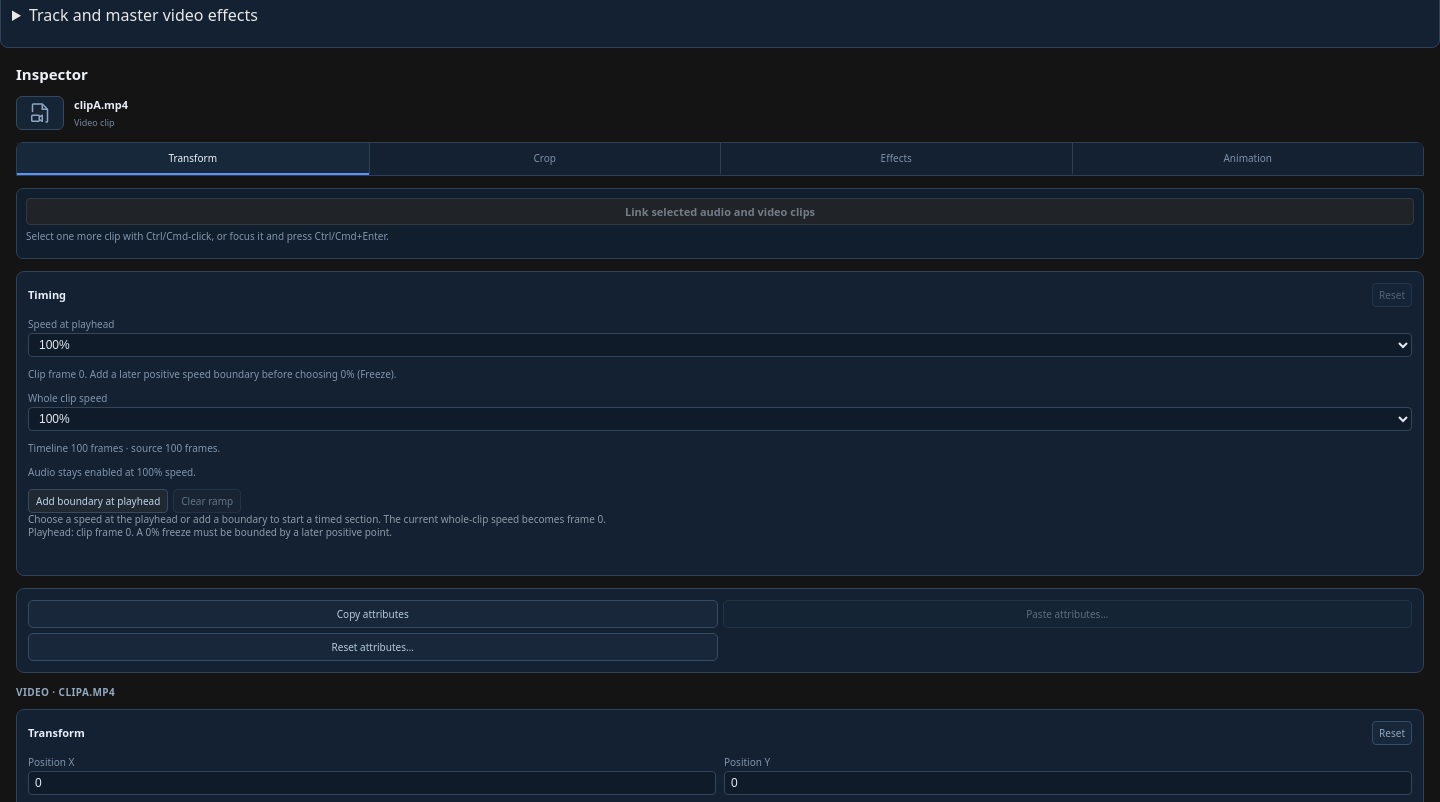
Test: Inspector › reports opaque unsupported effects without stranding removal or reorder controls
Click the tab "Effects".
click(896, 159)  # box x1=720 y1=143 x2=1072 y2=175
(page scrolled)
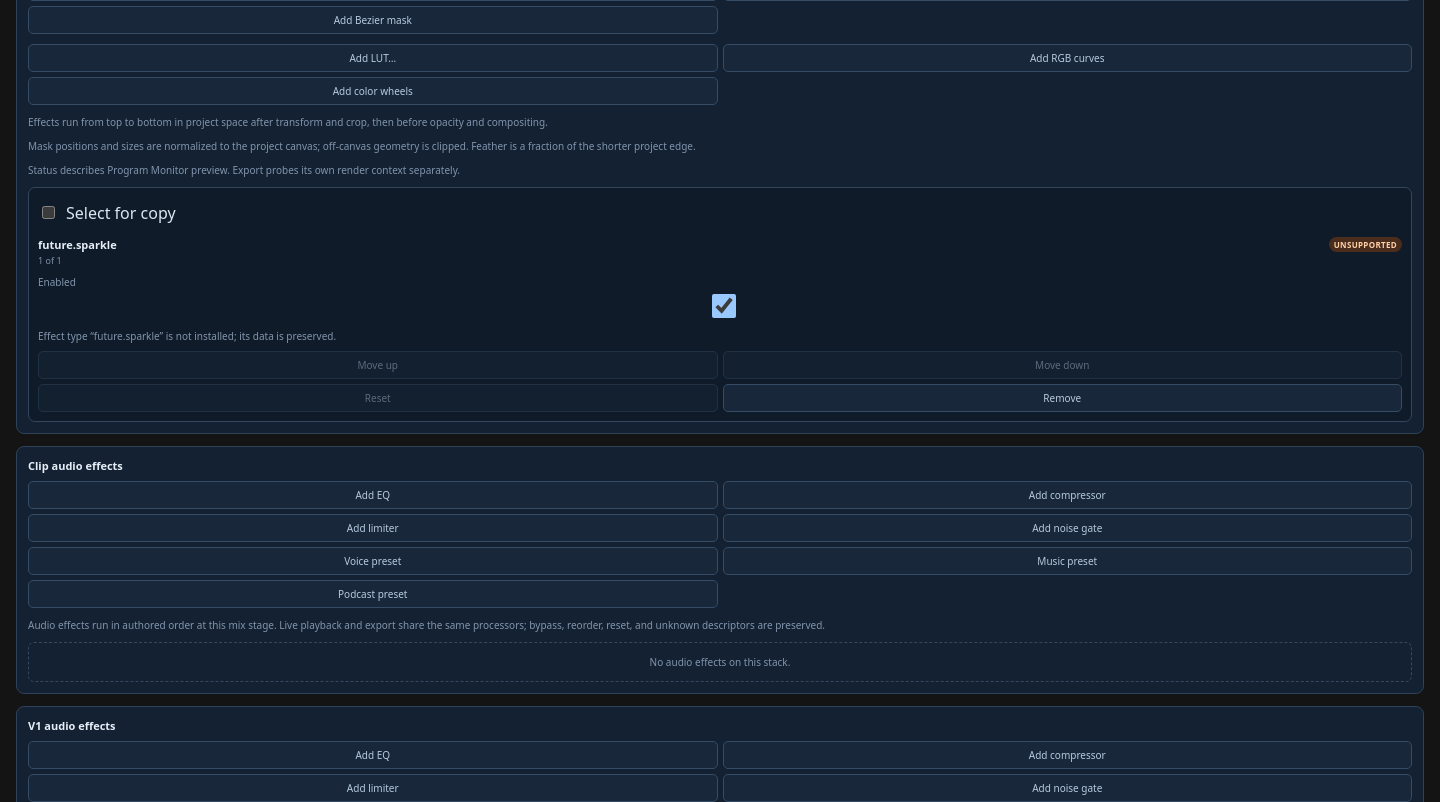
Check: the text named "Effect status: unsupported" is shown, box x1=1329 y1=236 x2=1402 y2=252
Check: the text "not installed; its data is preserved" is shown, box x1=38 y1=328 x2=336 y2=342
Check: the button with aria-label "Remove future.sparkle" is enabled, box x1=722 y1=384 x2=1402 y2=412
